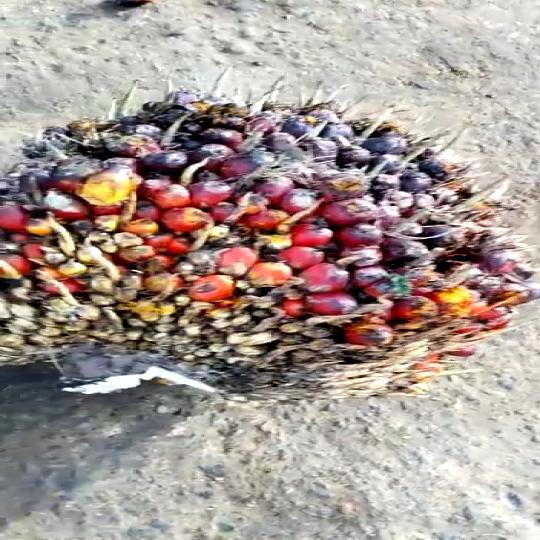masak: (0, 80, 540, 404)
